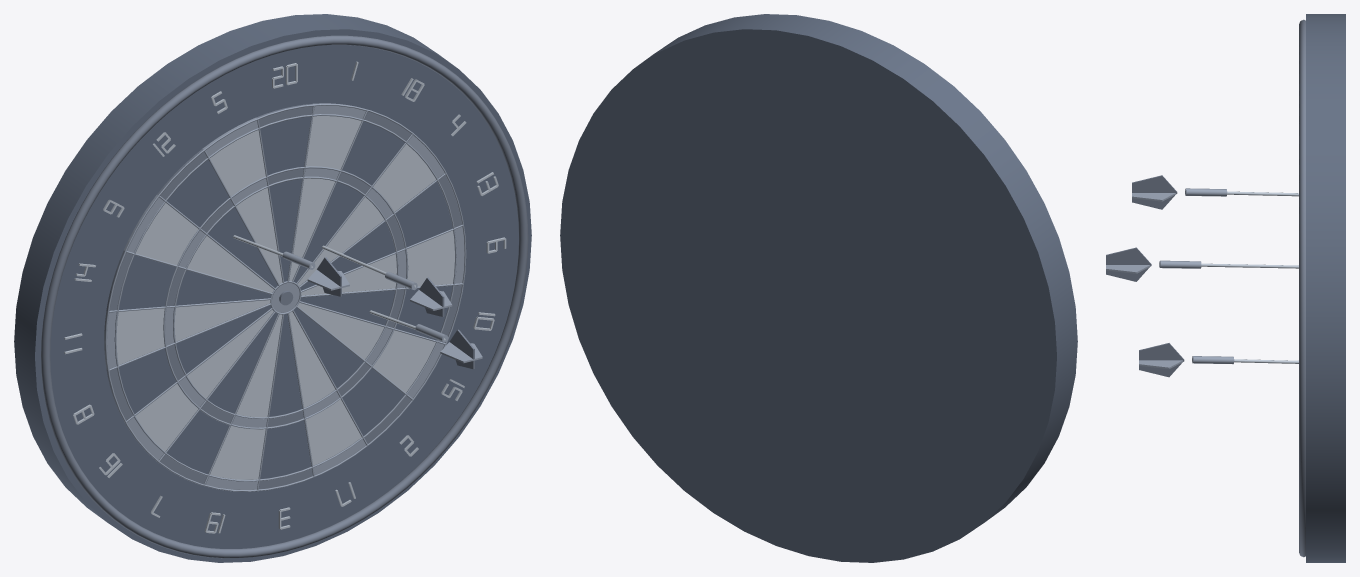
The model's file is dartboard.glb.
3 renders of one model, left to right at view 1: azimuth 30°, elevation 25°; view 2: azimuth 150°, elevation 25°; view 3: azimuth 270°, elevation 25°, orthographic. The views are drawn at different scales.
Parts seen in each view (by area): view 1: dartboard-dark, dartboard-light, dartboard-frame, dartboard-accent, dartboard-soft; view 2: dartboard-dark; view 3: dartboard-dark, dartboard-frame, dartboard-accent, dartboard-soft, dartboard-light.
Part boxes in pixels (left/top/right/bottom): dartboard-dark: left=14, top=14, right=531, bottom=562; dartboard-light: left=64, top=61, right=506, bottom=533; dartboard-frame: left=41, top=35, right=528, bottom=558; dartboard-accent: left=105, top=104, right=466, bottom=491; dartboard-soft: left=104, top=103, right=482, bottom=489; dartboard-dark: left=560, top=14, right=1077, bottom=562; dartboard-dark: left=1306, top=14, right=1345, bottom=562; dartboard-frame: left=1106, top=19, right=1305, bottom=557; dartboard-accent: left=1159, top=188, right=1234, bottom=364; dartboard-soft: left=1106, top=193, right=1184, bottom=368; dartboard-light: left=1160, top=191, right=1298, bottom=363.
Size of the model in its own units: 0.47 by 0.47 by 0.205.
